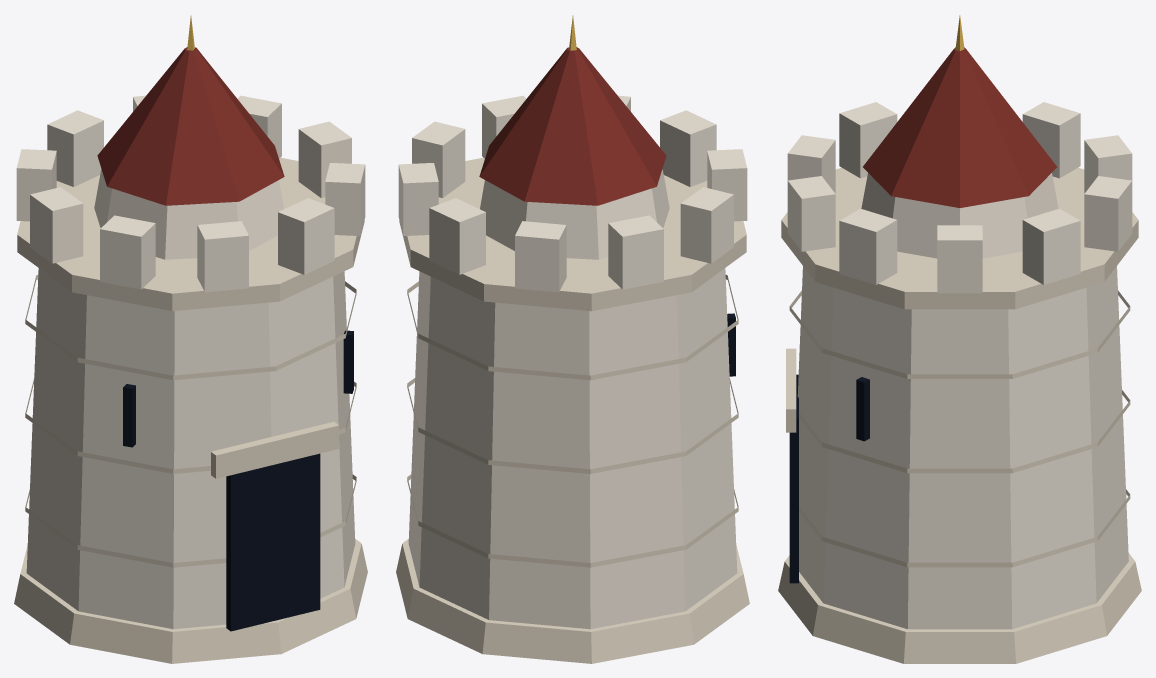
The model's file is bld_kutafya.glb.
3 views of the same model, side by side, from view 1: azimuth 30°, elevation 25°; view 2: azimuth 150°, elevation 25°; view 3: azimuth 270°, elevation 25° (orthographic).
Parts seen in each view (by area): view 1: bld_kutafya; view 2: bld_kutafya; view 3: bld_kutafya.
Part boxes in pixels (bbox=[...]): bld_kutafya: bbox=[14, 15, 367, 663]; bld_kutafya: bbox=[396, 15, 749, 663]; bld_kutafya: bbox=[778, 15, 1141, 663].
Size of the model in its own units: 5.35 by 9.8 by 5.6.
1 material, 1 textured.
